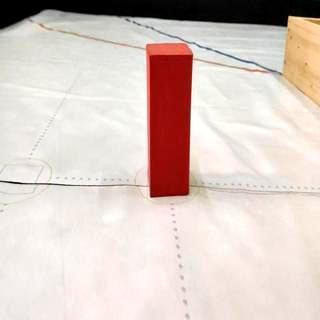redbox: (145, 42, 193, 198)
